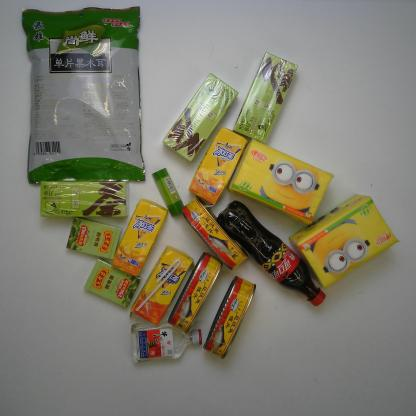Alcohol: (127, 320, 204, 368)
Candy: (79, 254, 144, 310), (61, 212, 123, 261)
Canned Food: (179, 192, 251, 274), (200, 272, 260, 360), (165, 250, 224, 336)
Dried Food: (18, 3, 148, 188)
Drink: (213, 195, 329, 308), (128, 243, 196, 327), (186, 124, 248, 209), (109, 196, 170, 280)
Instant Drink: (163, 73, 239, 164), (231, 48, 300, 146), (36, 177, 134, 220)
Stationery: (151, 167, 186, 218)
Tissue: (287, 193, 401, 290), (229, 136, 338, 226)
